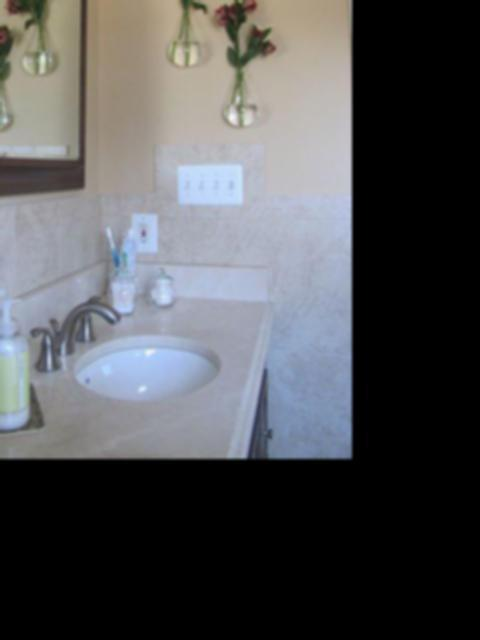Lavamanos: (10, 292, 235, 409)
